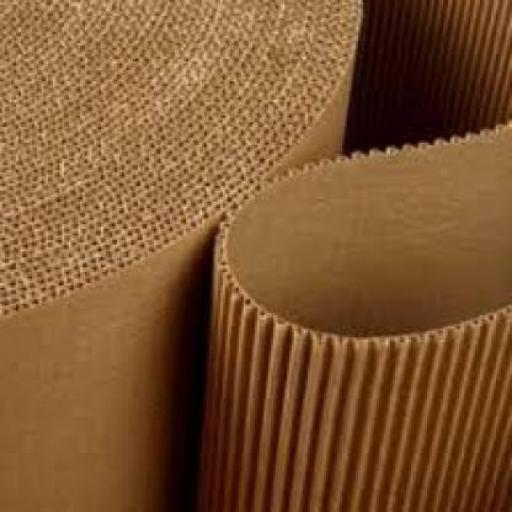cardboard: (0, 0, 510, 510), (0, 0, 361, 510), (193, 110, 510, 510), (362, 0, 511, 153)
